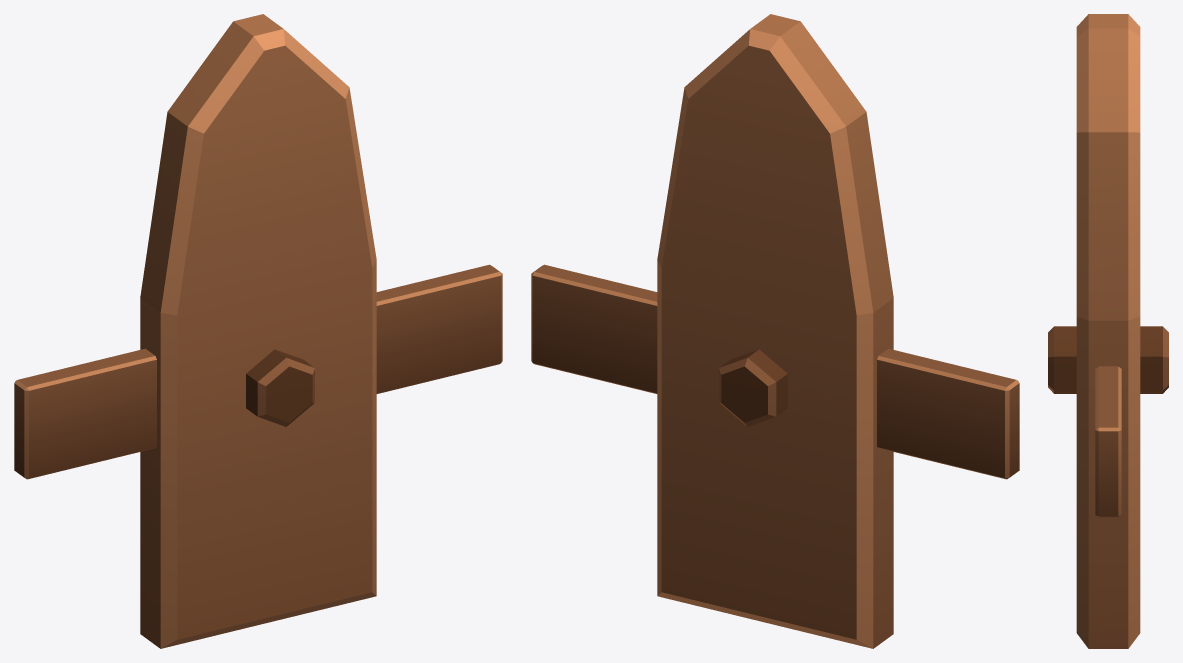
Rendered from mt_prop_fence02.fbx.
3 renders of one model, left to right at view 1: azimuth 30°, elevation 25°; view 2: azimuth 150°, elevation 25°; view 3: azimuth 270°, elevation 25°, orthographic. The views are drawn at different scales.
Parts seen in each view (by area): view 1: prop_fence02; view 2: prop_fence02; view 3: prop_fence02.
Boxes of the visible parts, x1,y1,x2,y2 form: prop_fence02: (14, 14, 502, 648); prop_fence02: (531, 14, 1019, 648); prop_fence02: (1048, 14, 1168, 648).
Bounding box in the file's own units: 73.02 × 86.06 × 16.34.
